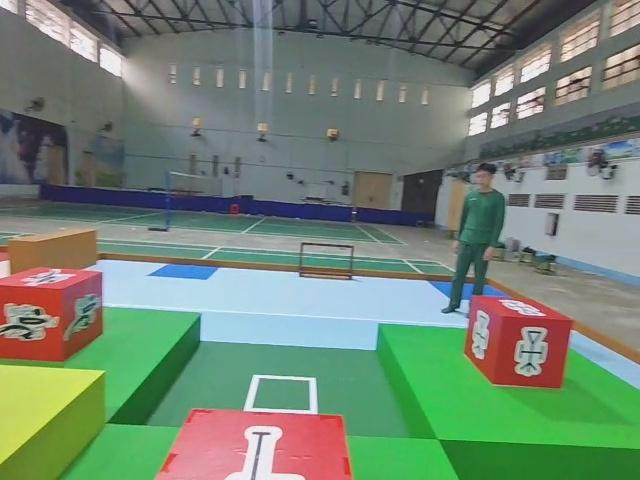R1: (1, 269, 104, 362)
R2 Real: (155, 404, 354, 480), (464, 296, 573, 392)
